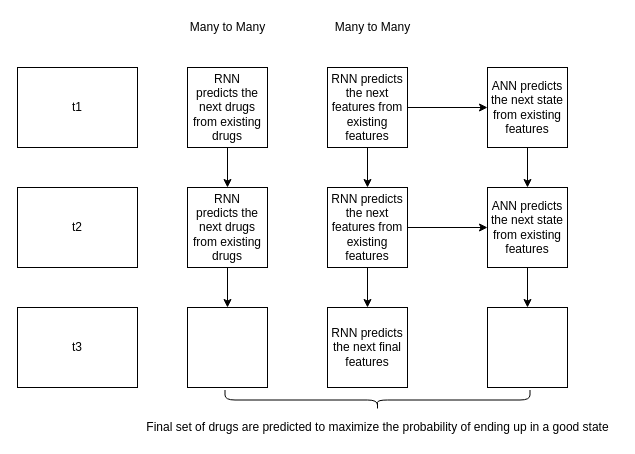
The diagram is 635 pixels wide and 454 high, and some of its shapes have lost their labels. The shapes that lost their labels are listed below. From the top down, each one's centre as x and y in pixels, then its label:
the point at 227,347: RNN predicts the final set of drugs
the point at 527,347: ANN predicts the final state from existing features
